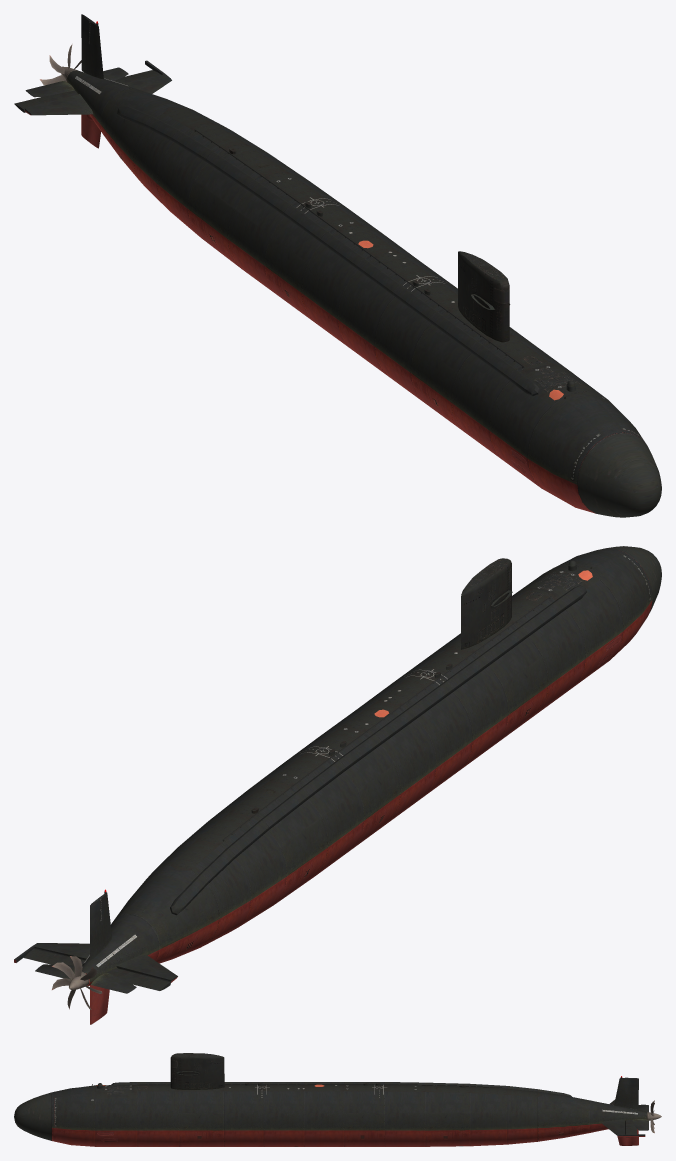
Rendered from qst2.glb.
3 views of the same model, one above another, from view 1: azimuth 30°, elevation 25°; view 2: azimuth 150°, elevation 25°; view 3: azimuth 270°, elevation 25° (orthographic). The views are drawn at different scales.
Parts seen in each view (by area): view 1: Object_2; view 2: Object_2; view 3: Object_2.
Part boxes in pixels (x1,y1,x2,y2): Object_2: [14, 14, 661, 517]; Object_2: [14, 546, 661, 1024]; Object_2: [14, 1053, 661, 1146].
Size of the model in its own units: 0.2189 by 0.2455 by 1.58.
Materials: 1 (1 with a texture image).
